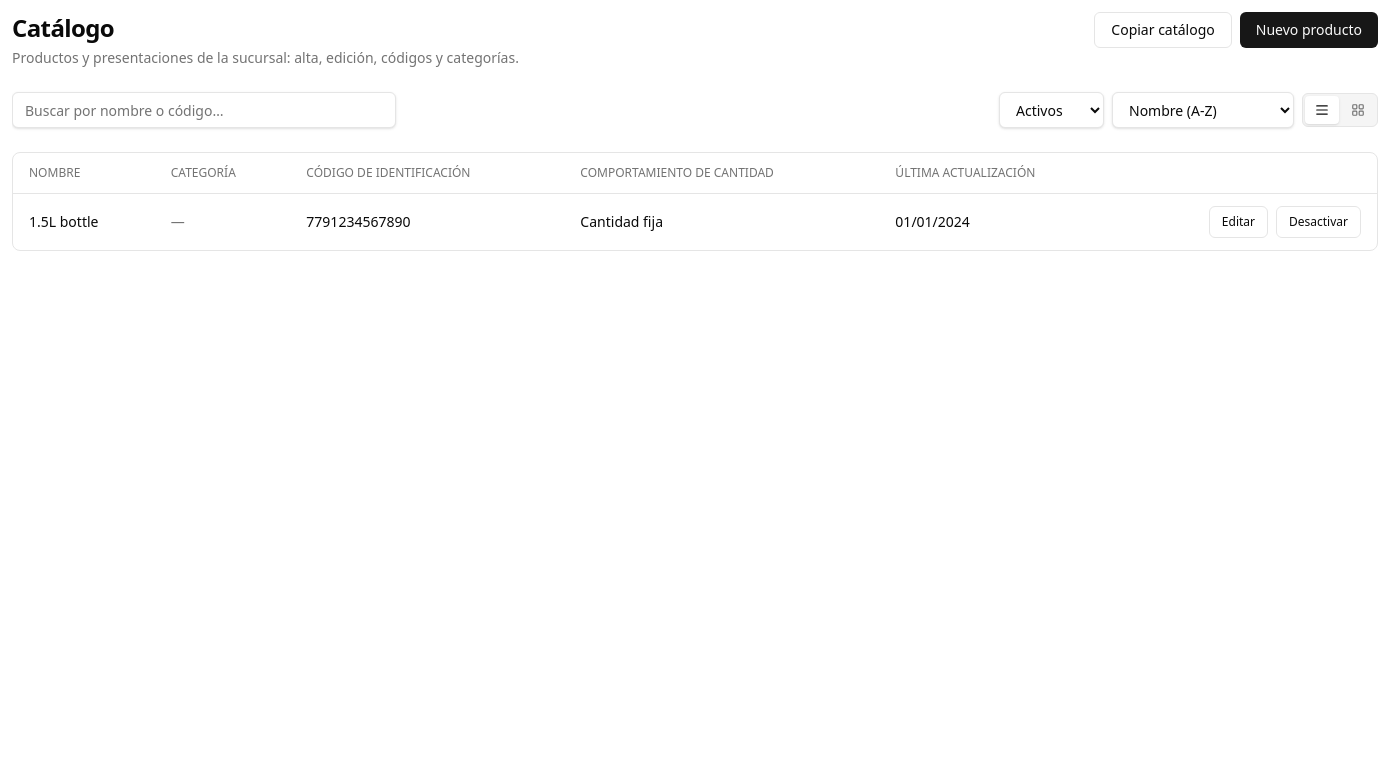
Scenario: CatalogScreen — copy catalog to another branch › copies only the selected products
Check: the text "1.5L bottle" is shown, box left=29, top=212, right=98, bottom=232
Click the button "Copiar catálogo".
click(1163, 30)  # box left=1094, top=12, right=1232, bottom=48
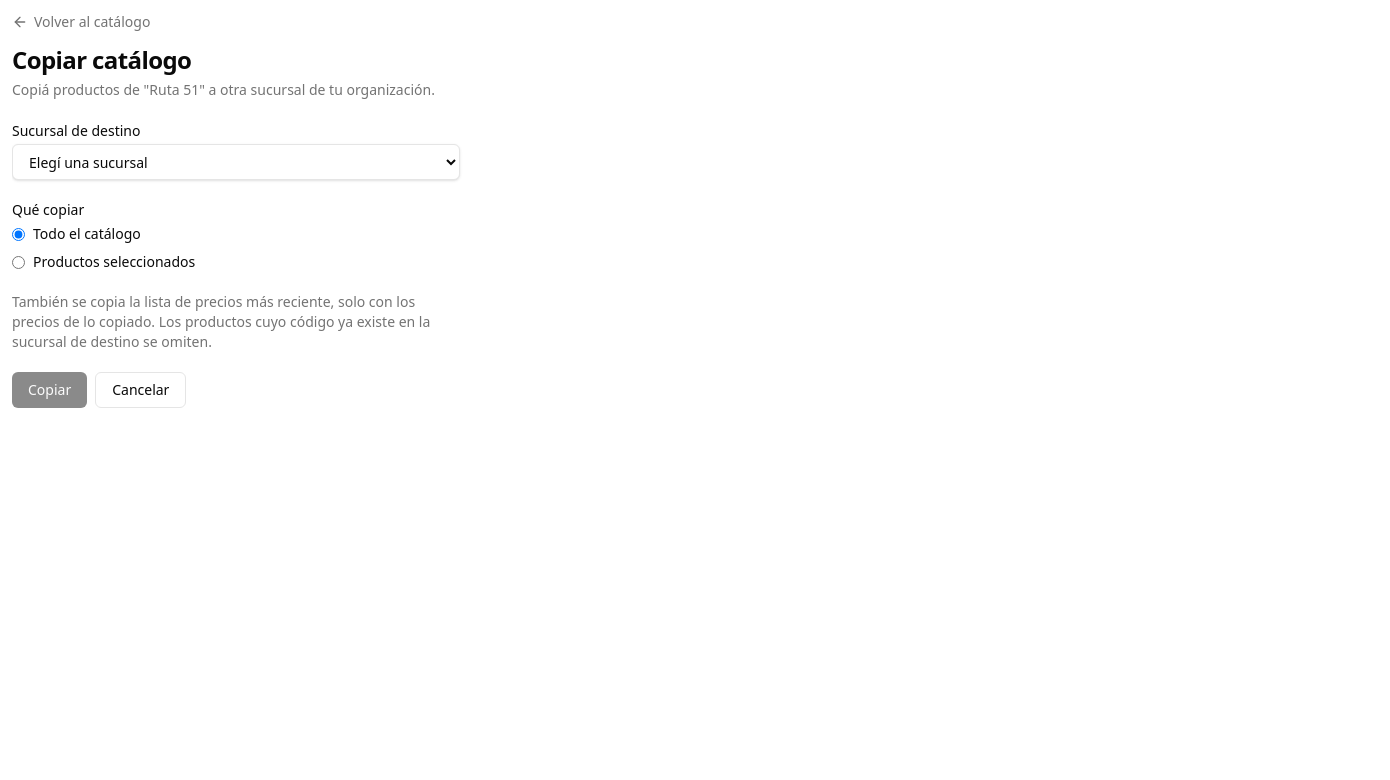
Select "Norte" in the dropdown labelled "Sucursal de destino" at coordinates (236, 162), box left=12, top=144, right=460, bottom=180
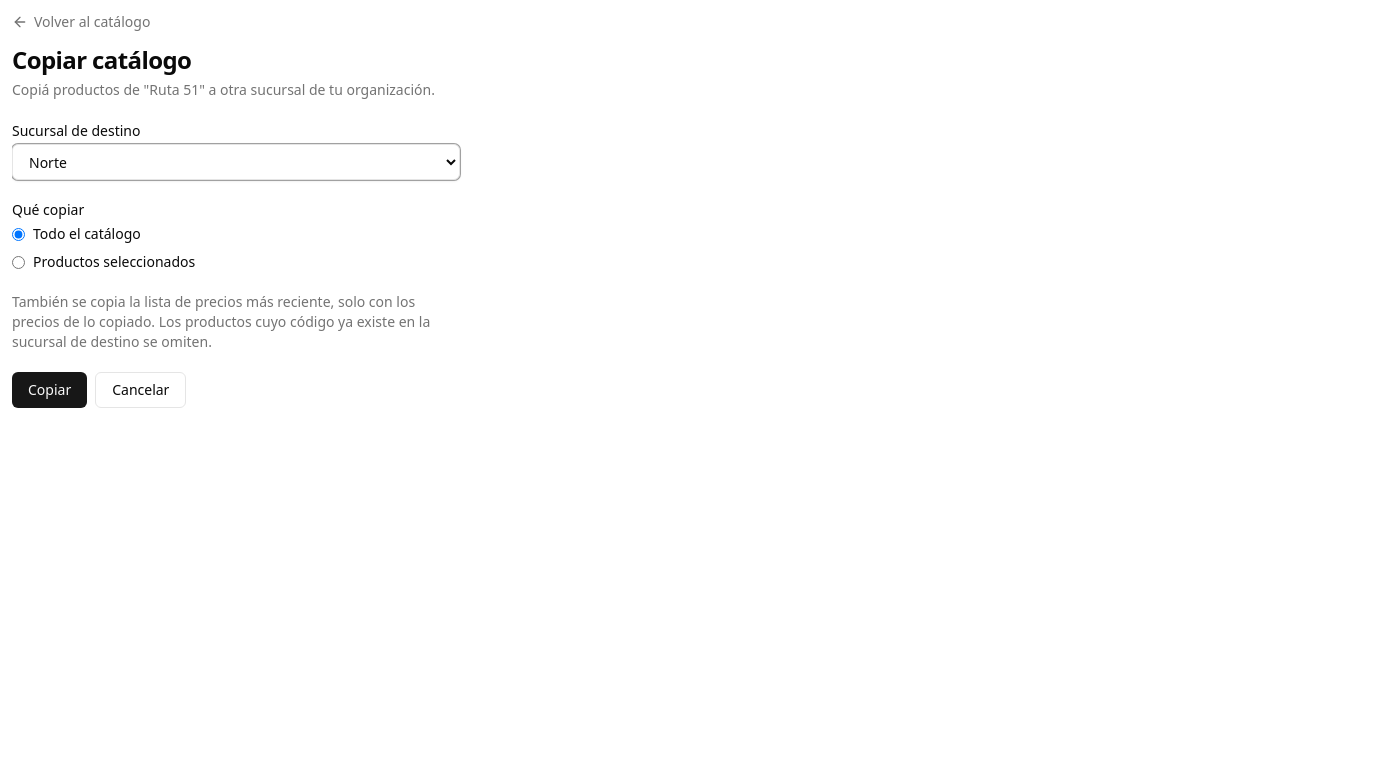
Click the radio button labelled "Productos seleccionados".
click(18, 262)  # box left=12, top=256, right=25, bottom=268
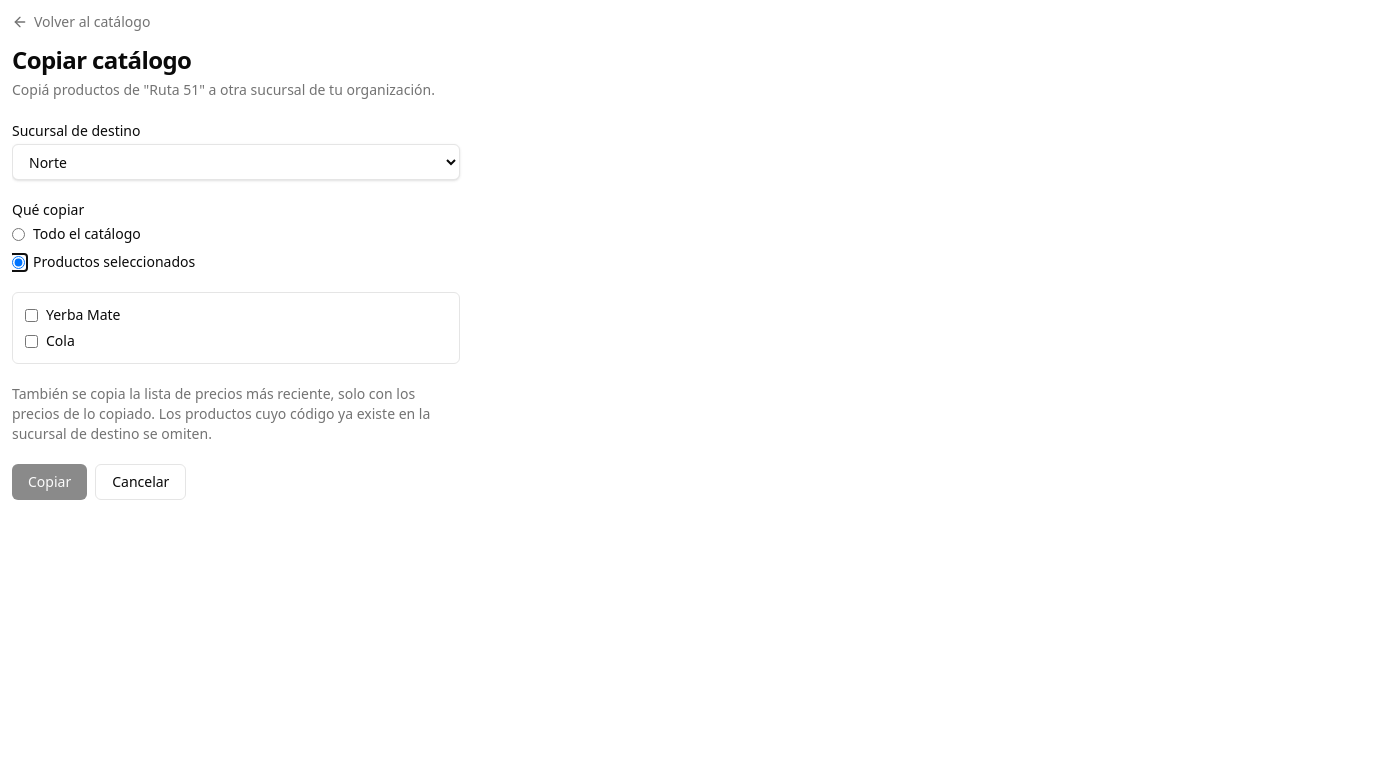
Check: the checkbox labelled "Yerba Mate" is shown
Check: the button "Copiar" is disabled, box left=12, top=464, right=87, bottom=500
Click the checkbox labelled "Yerba Mate".
click(32, 315)  # box left=25, top=308, right=38, bottom=322
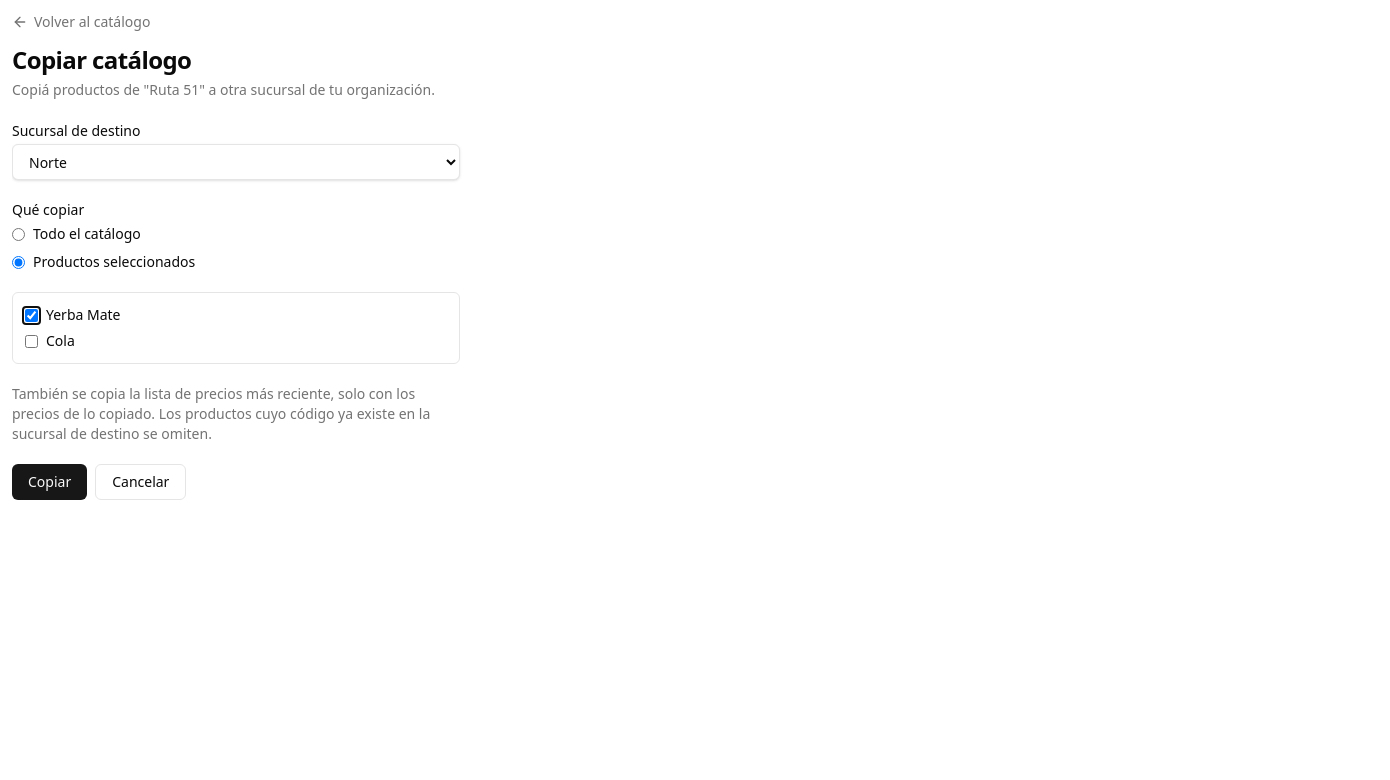
Click the button "Copiar".
click(50, 482)  # box left=12, top=464, right=87, bottom=500
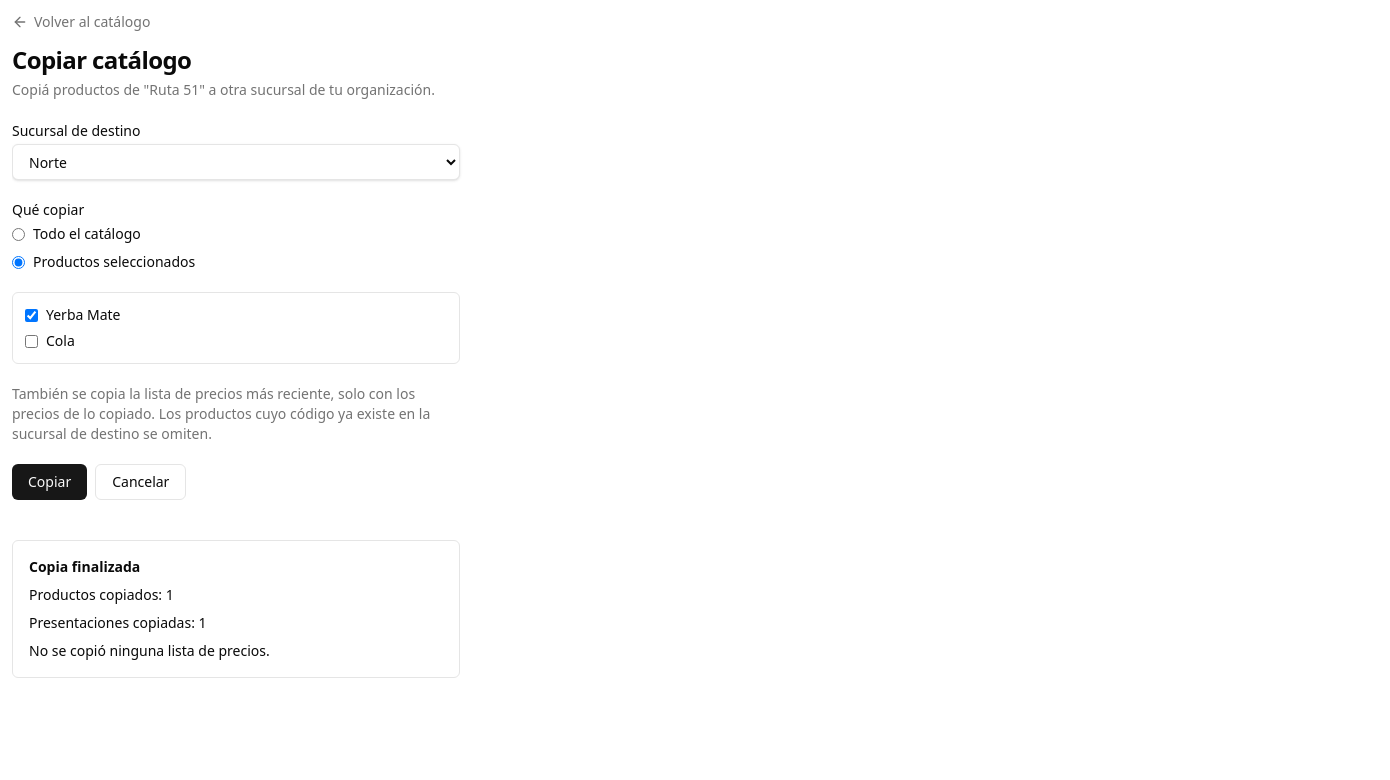
Check: the text "Productos copiados: 1" is shown, box left=29, top=585, right=174, bottom=604
Check: the text "No se copió ninguna lista de precios." is shown, box left=29, top=641, right=270, bottom=660
